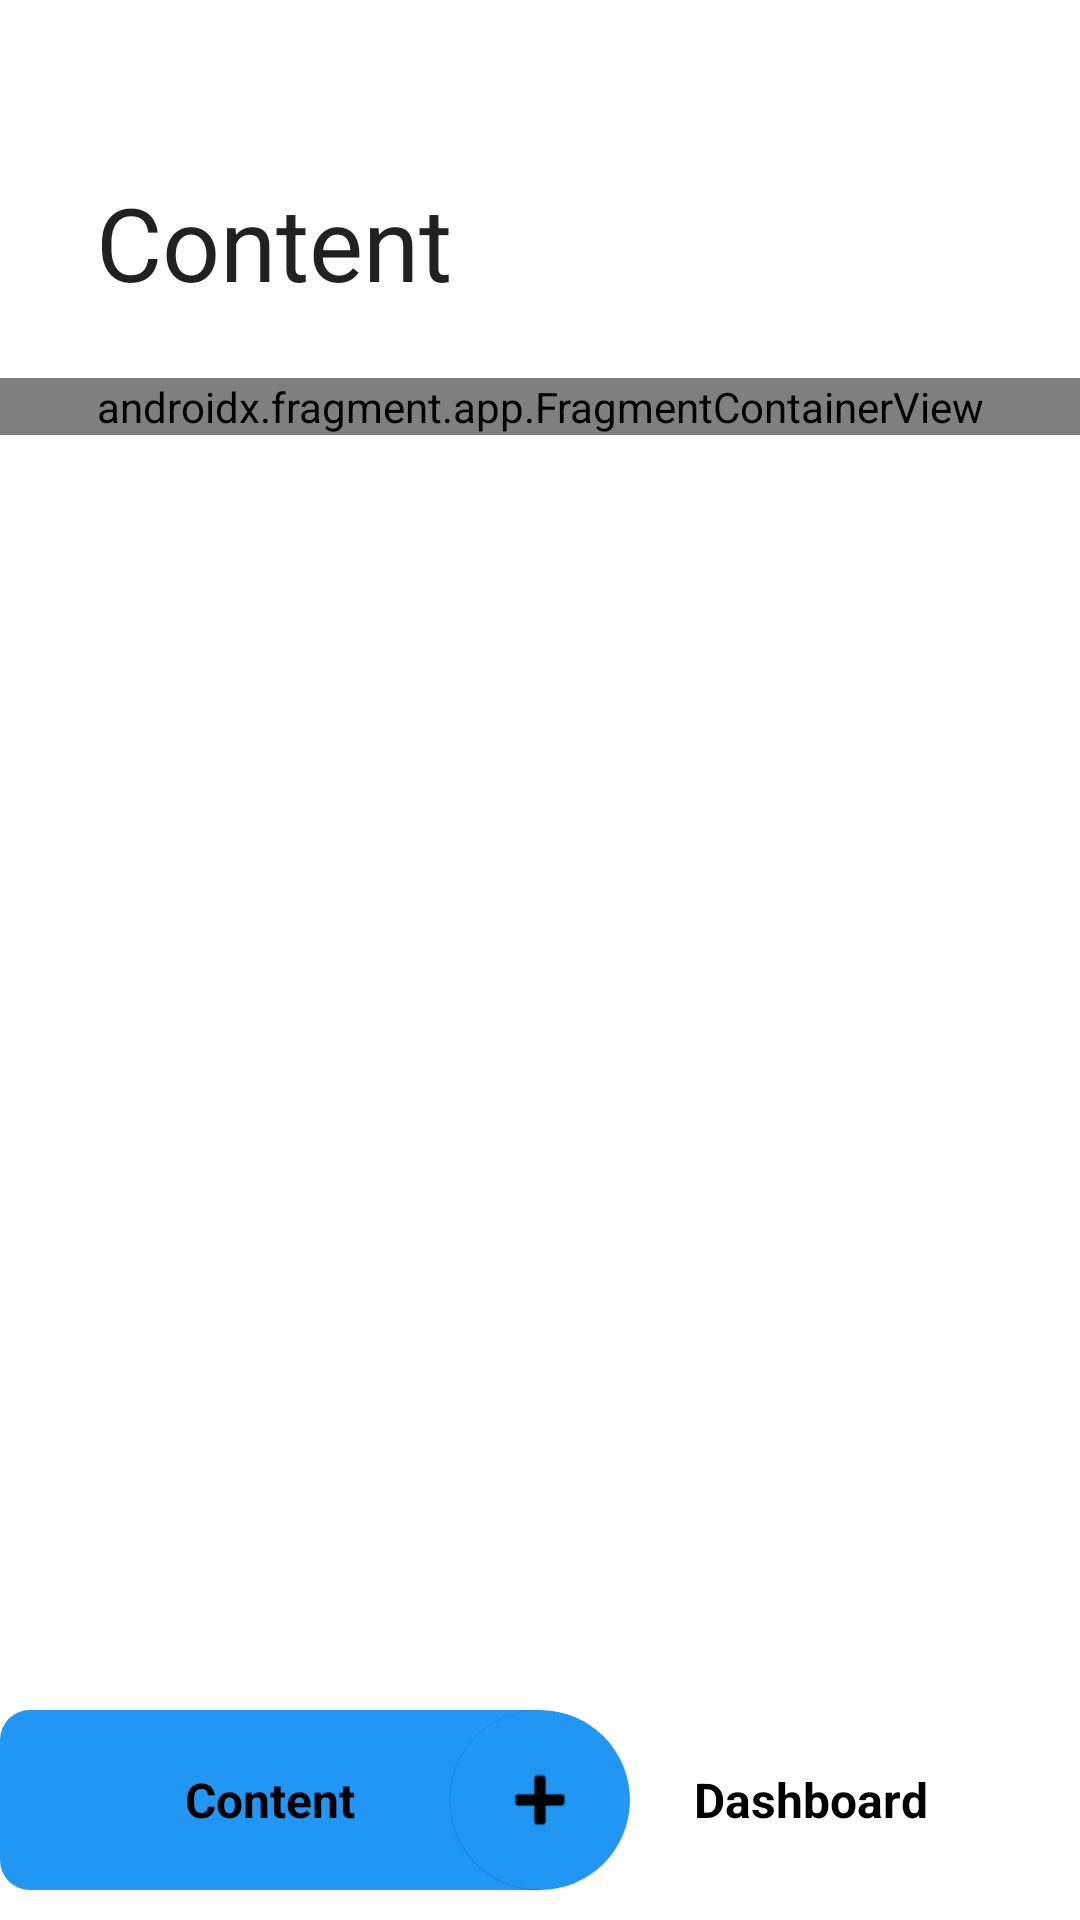

Icons on this 1080*1920 Android screen, each with its box as (x1, y1, x2, y2):
add: (450, 1710, 630, 1890)
